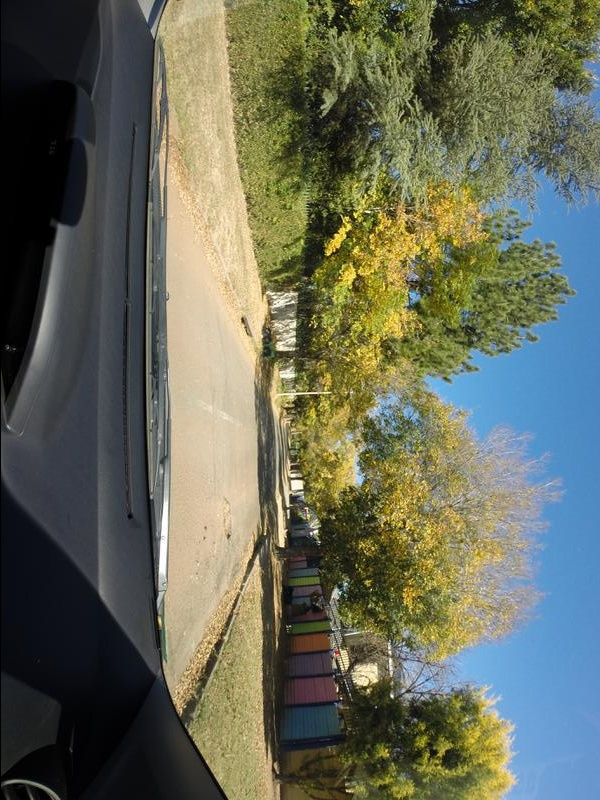pothole: (218, 488, 241, 546)
